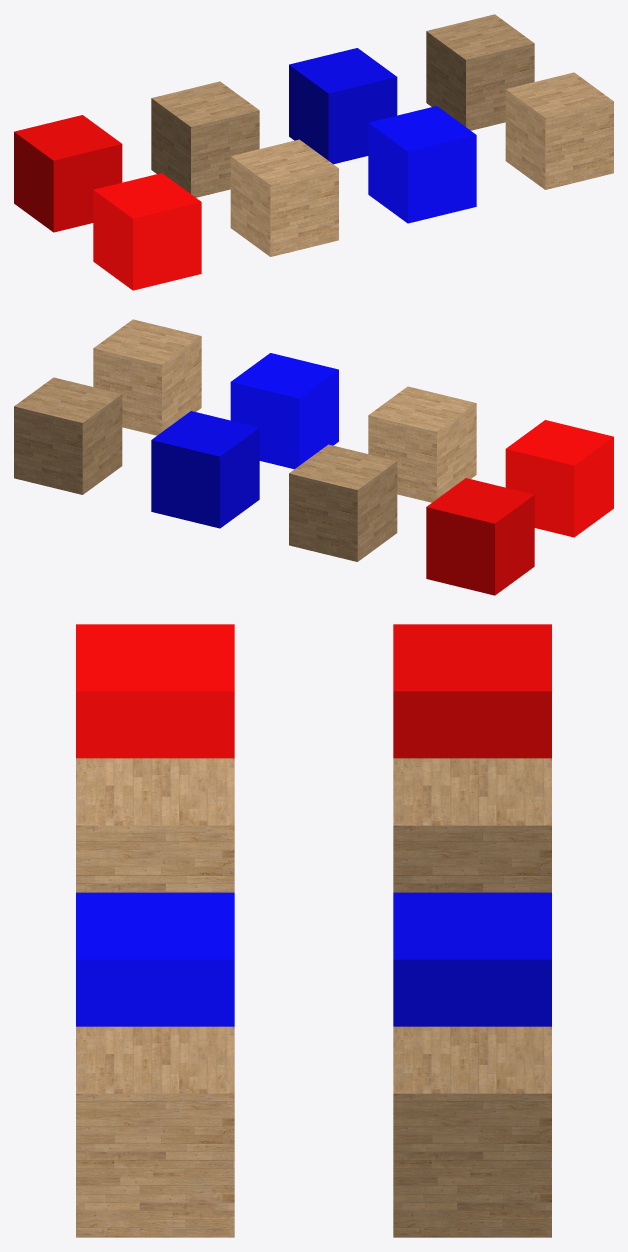
The model's file is UnlitMaterial.gltf.
3 views of the same model, one above another, from view 1: azimuth 30°, elevation 25°; view 2: azimuth 150°, elevation 25°; view 3: azimuth 270°, elevation 25° (orthographic). The views are drawn at different scales.
Parts seen in each view (by area): view 1: BoxSimpleColorUnlit, BoxPBRTextureUnlit, BoxPBRColorUnlitPBR, BoxSimpleTextureUnlit, BoxSimpleColorStd, BoxPBRColorStd, BoxPBRTextureStd, BoxSimpleTextureStd; view 2: BoxSimpleColorStd, BoxPBRTextureStd, BoxPBRColorStd, BoxSimpleTextureStd, BoxSimpleColorUnlit, BoxPBRColorUnlitPBR, BoxPBRTextureUnlit, BoxSimpleTextureUnlit; view 3: BoxPBRTextureStd, BoxPBRTextureUnlit, BoxSimpleColorUnlit, BoxSimpleColorStd, BoxSimpleTextureUnlit, BoxSimpleTextureStd, BoxPBRColorStd, BoxPBRColorUnlitPBR.
Boxes of the visible parts, x1,y1,x2,y2 form: BoxSimpleColorUnlit: (93,173,201,290); BoxPBRTextureUnlit: (505,72,613,189); BoxPBRColorUnlitPBR: (368,106,476,223); BoxSimpleTextureUnlit: (230,139,338,256); BoxSimpleColorStd: (14,115,122,232); BoxPBRColorStd: (289,48,397,164); BoxPBRTextureStd: (426,14,534,130); BoxSimpleTextureStd: (151,81,259,197); BoxSimpleColorStd: (426,478,534,595); BoxPBRTextureStd: (14,377,122,494); BoxPBRColorStd: (151,411,259,528); BoxSimpleTextureStd: (289,444,397,561); BoxSimpleColorUnlit: (505,420,613,537); BoxPBRColorUnlitPBR: (230,353,338,469); BoxPBRTextureUnlit: (93,319,201,435); BoxSimpleTextureUnlit: (368,386,476,502); BoxPBRTextureStd: (393,1026,551,1237); BoxPBRTextureUnlit: (76,1026,234,1237); BoxSimpleColorUnlit: (76,624,234,758); BoxSimpleColorStd: (393,624,551,758); BoxSimpleTextureUnlit: (76,758,234,892); BoxSimpleTextureStd: (393,758,551,892); BoxPBRColorStd: (393,892,551,1026); BoxPBRColorUnlitPBR: (76,892,234,1026).
Bounding box in the file's own units: 7 × 1 × 3.
Materials: 8 (4 with a texture image).
